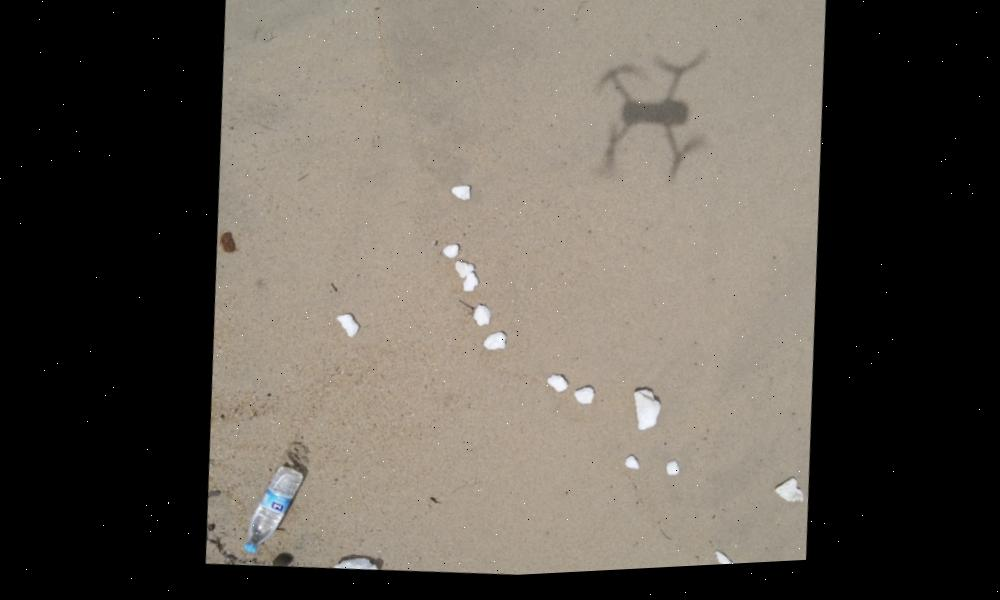plastic bottle: (236, 464, 303, 557)
styrofoam: (538, 376, 592, 410), (627, 395, 659, 438), (447, 263, 476, 296), (767, 483, 799, 512), (329, 316, 360, 341), (329, 559, 373, 576), (476, 337, 509, 353), (438, 246, 457, 266), (448, 191, 470, 208), (469, 313, 488, 331), (657, 468, 674, 482), (708, 560, 726, 572), (619, 463, 634, 477)
